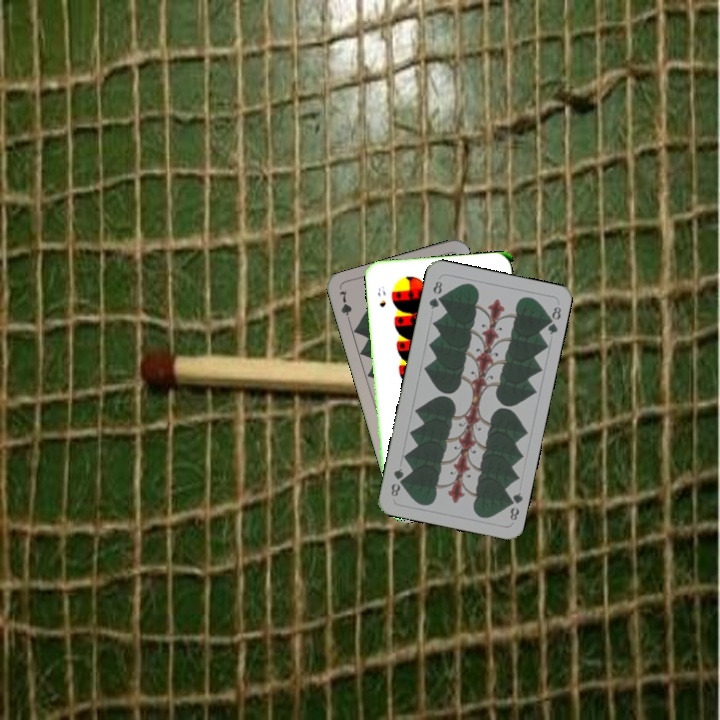G7: (335, 286, 354, 327)
G8: (503, 488, 525, 523), (425, 277, 445, 311)
S8: (374, 282, 388, 309)
